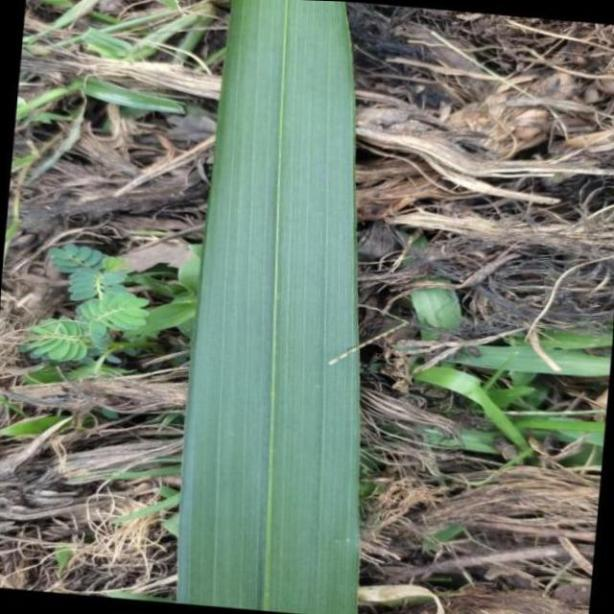Healthy: (176, 0, 356, 614)
